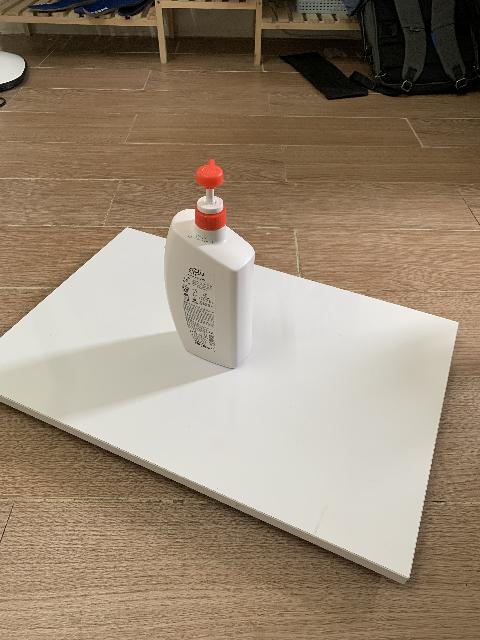life-buoy: (164, 158, 255, 371)
